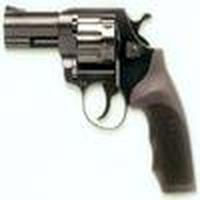gun: (2, 9, 199, 190)
